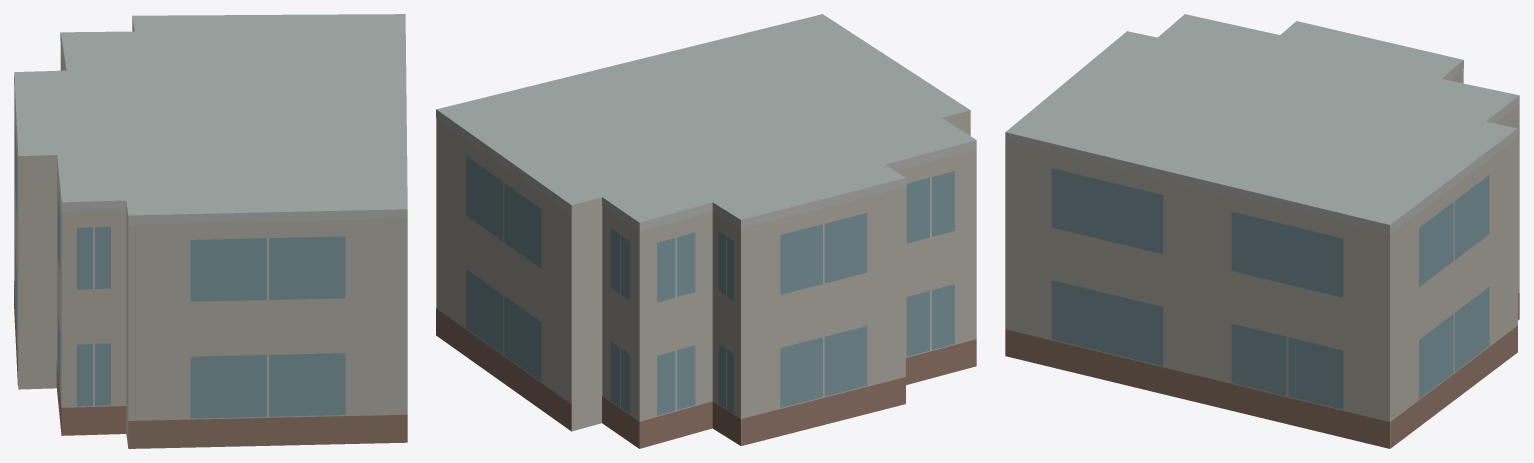
File: survey-upis-32877866.glb
3 renders of one model, left to right at view 1: azimuth 30°, elevation 25°; view 2: azimuth 150°, elevation 25°; view 3: azimuth 270°, elevation 25°, orthographic. The views are drawn at different scales.
Visible parts, largest first — view 1: survey-upis-32877866.tmp; view 2: survey-upis-32877866.tmp; view 3: survey-upis-32877866.tmp.
Part boxes in pixels (x1,y1,x2,y2): survey-upis-32877866.tmp: [14, 14, 407, 448]; survey-upis-32877866.tmp: [436, 14, 976, 448]; survey-upis-32877866.tmp: [1005, 14, 1519, 448].
Size of the model in its own units: 12.34 by 6.1 by 12.71.
